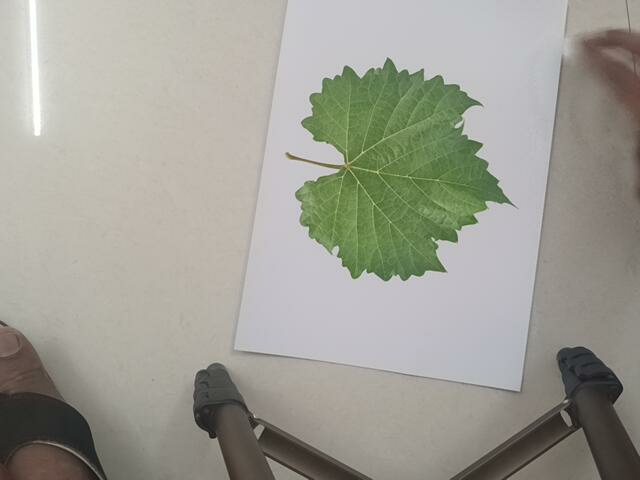Grape_Healthy: (287, 57, 524, 279)
